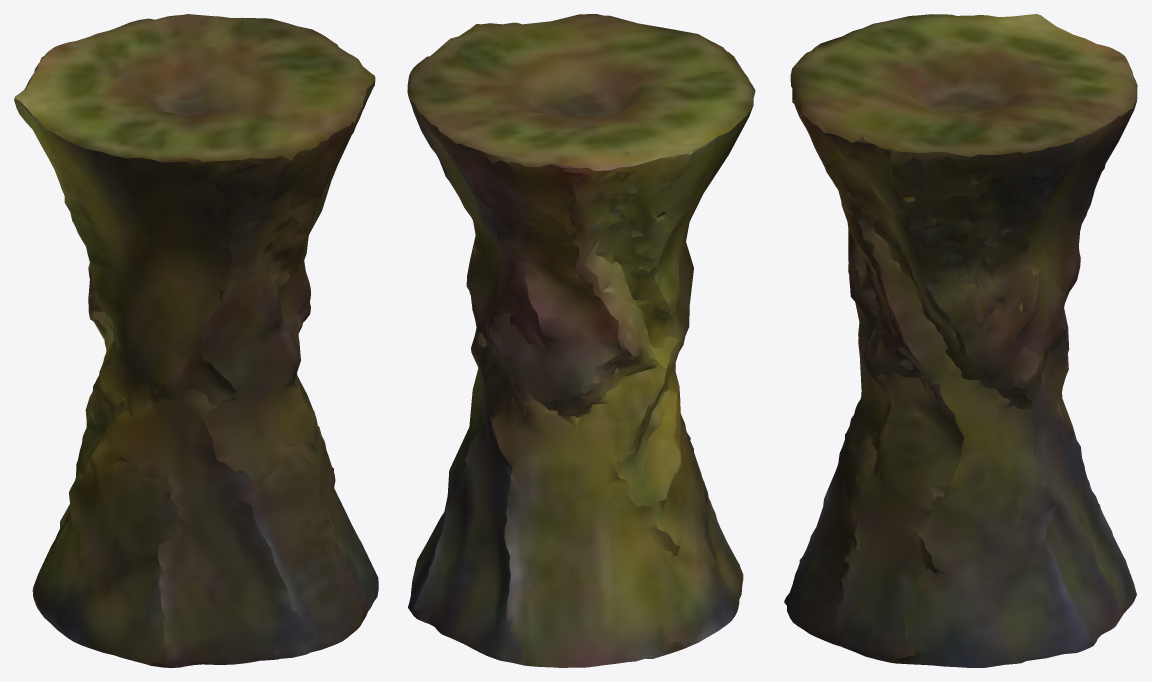
The picture shows the model from 3 angles, left to right: view 1: azimuth 30°, elevation 25°; view 2: azimuth 150°, elevation 25°; view 3: azimuth 270°, elevation 25°; orthographic projection.
Visible parts, largest first — view 1: world; view 2: world; view 3: world.
Part boxes in pixels (bbox=[...]): world: bbox=[14, 14, 378, 667]; world: bbox=[407, 14, 755, 667]; world: bbox=[784, 14, 1137, 667].
Size of the model in its own units: 0.163 by 0.266 by 0.1645.
1 material, 1 textured.
